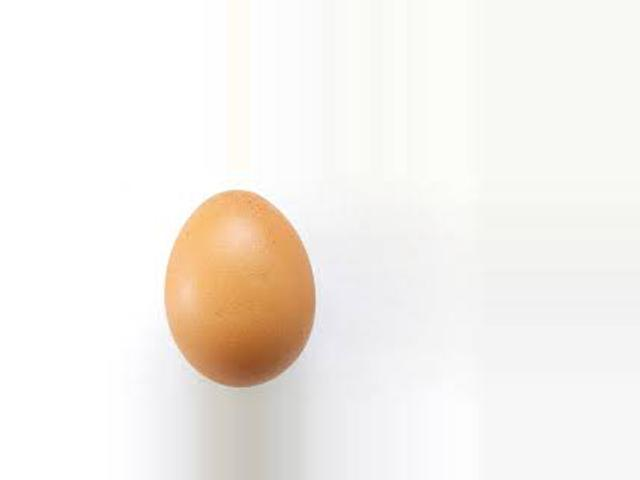egg: (166, 190, 316, 386)
